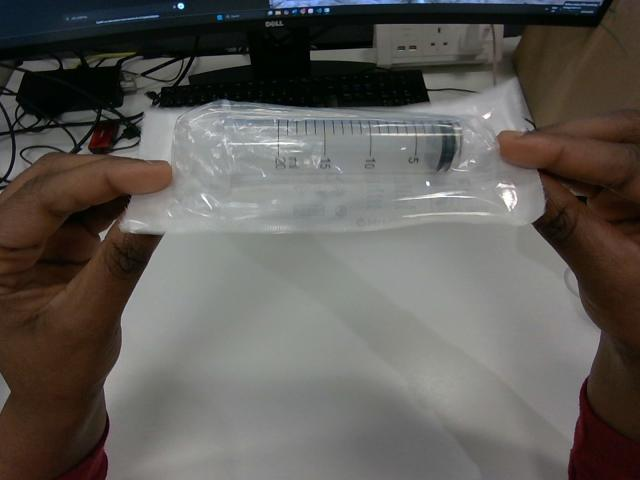syringe: (122, 101, 538, 232)
